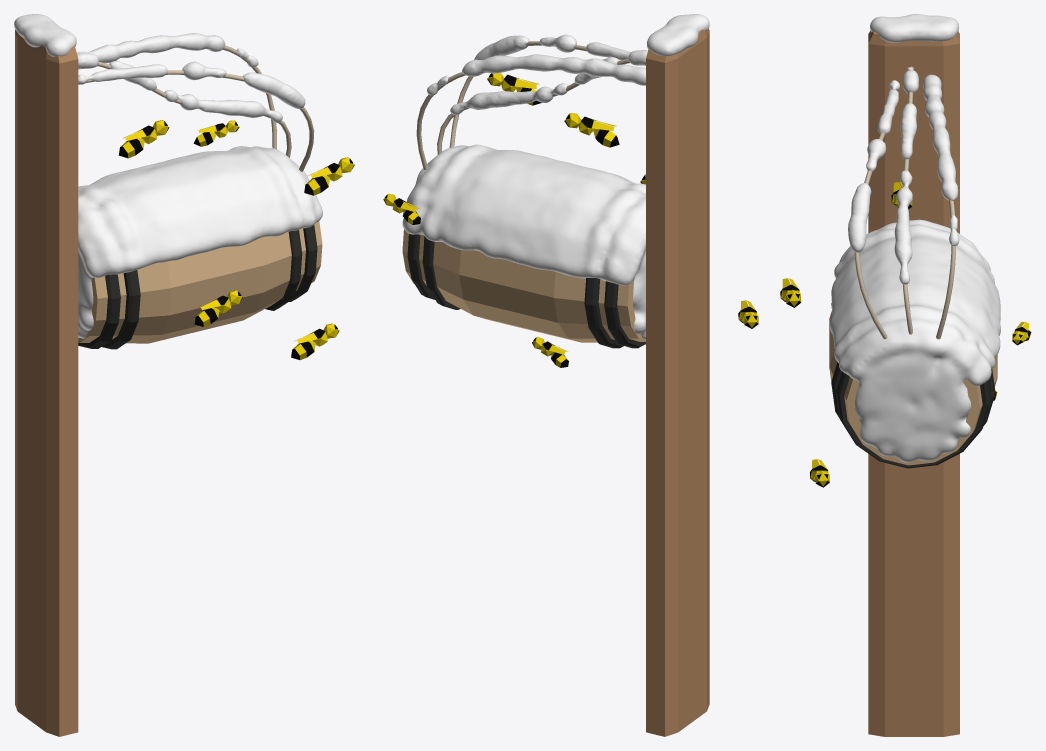
File: Honey Barrel SNOW.fbx
The picture shows the model from 3 angles, left to right: view 1: azimuth 30°, elevation 25°; view 2: azimuth 150°, elevation 25°; view 3: azimuth 270°, elevation 25°; orthographic projection. The views are drawn at different scales.
Visible parts, largest first — view 1: cable, SnowBall.001; view 2: cable, SnowBall.001; view 3: cable, SnowBall.001.
Boxes of the visible parts, bbox=[...] form: cable: bbox=[15, 29, 354, 736]; SnowBall.001: bbox=[14, 14, 322, 338]; cable: bbox=[383, 29, 709, 736]; SnowBall.001: bbox=[402, 14, 709, 340]; cable: bbox=[738, 31, 1031, 736]; SnowBall.001: bbox=[830, 14, 1000, 462].
Size of the model in its own units: 323 by 796 by 298.
